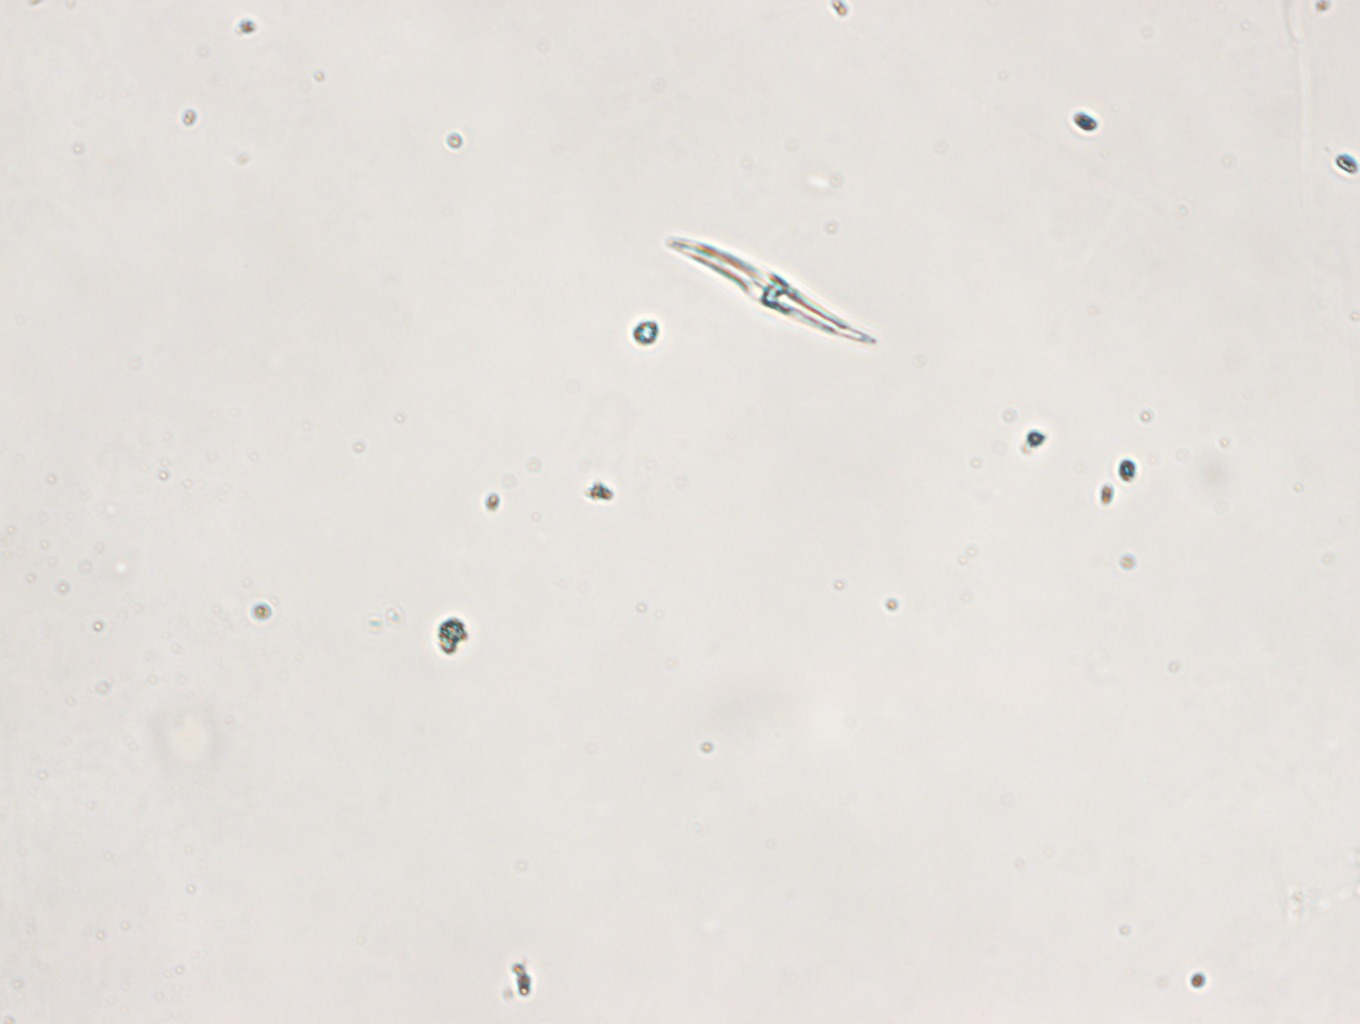pleurosigma pelagicum: (662, 234, 879, 347)
